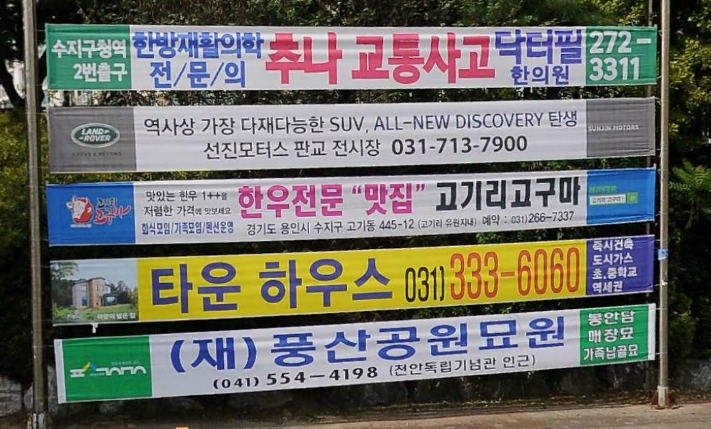banner: (54, 231, 663, 328), (47, 94, 658, 183), (54, 168, 658, 257), (43, 313, 666, 390), (45, 27, 661, 95)
